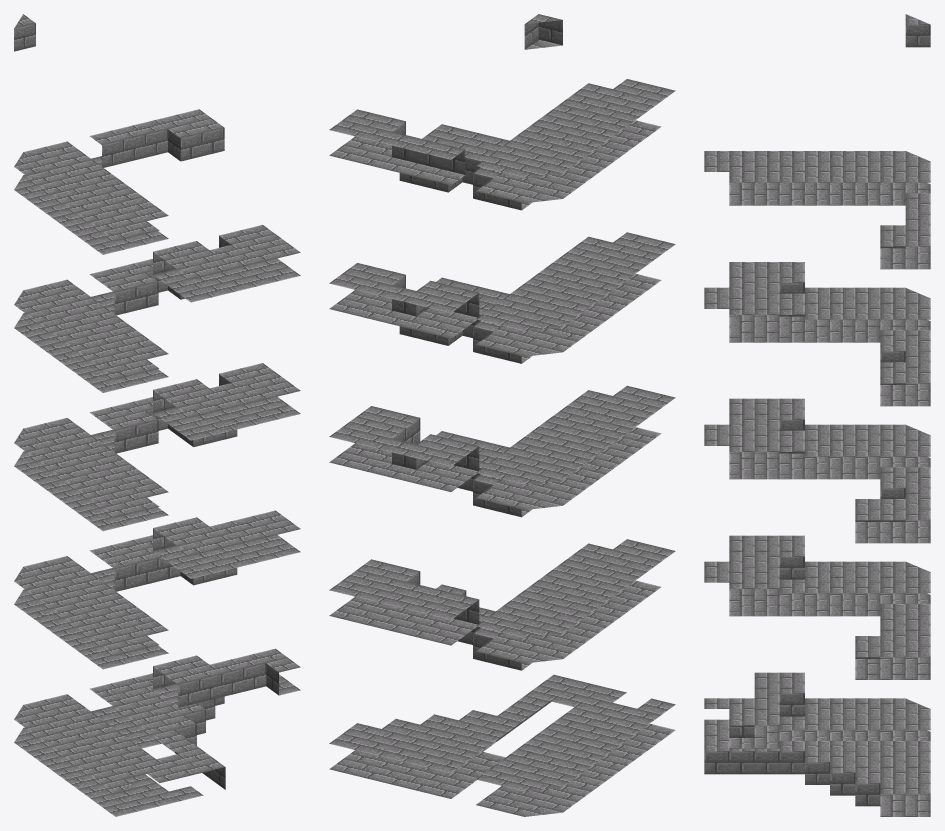
Rendered from Stone_Bricks_Chunk_6_20.fbx.
3 views of the same model, side by side, from view 1: azimuth 30°, elevation 25°; view 2: azimuth 150°, elevation 25°; view 3: azimuth 270°, elevation 25° (orthographic). The views are drawn at different scales.
Visible parts, largest first — view 1: Stone_Bricks_Chunk_6_20; view 2: Stone_Bricks_Chunk_6_20; view 3: Stone_Bricks_Chunk_6_20.
Part boxes in pixels (left/top/right/bottom): Stone_Bricks_Chunk_6_20: left=14, top=14, right=300, bottom=816; Stone_Bricks_Chunk_6_20: left=329, top=14, right=675, bottom=816; Stone_Bricks_Chunk_6_20: left=704, top=14, right=930, bottom=816.
Size of the model in its own units: 900 by 3100 by 900.
Materials: 1 (1 with a texture image).
